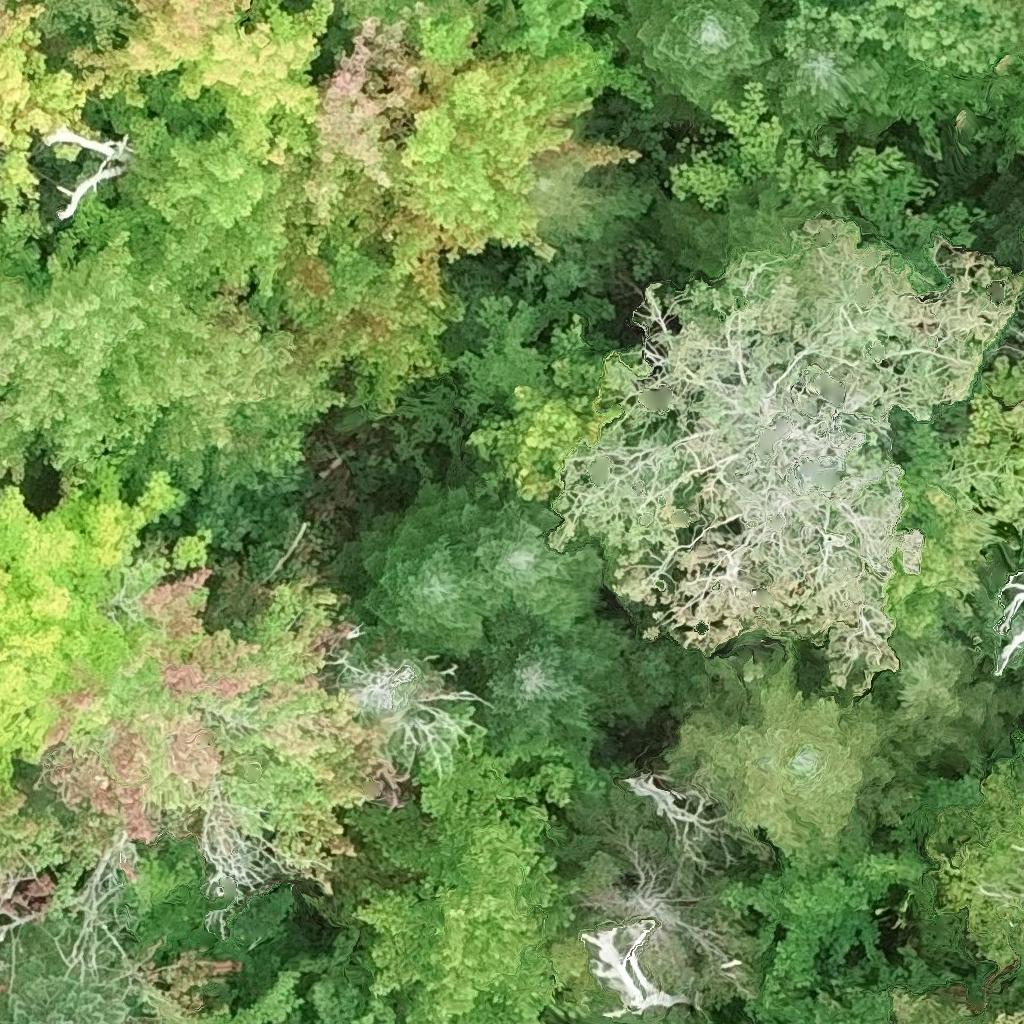crown: (549, 220, 1023, 680), (41, 561, 399, 897), (302, 0, 658, 307), (662, 639, 998, 856), (351, 718, 583, 1023), (0, 464, 207, 790), (671, 82, 977, 301), (883, 360, 1023, 640), (437, 295, 610, 509), (405, 475, 601, 639), (465, 610, 684, 753), (317, 508, 511, 662), (774, 0, 1018, 78), (616, 0, 788, 108), (122, 938, 301, 1023), (0, 787, 110, 925), (0, 927, 140, 1023), (293, 929, 399, 1023), (893, 990, 1023, 1023)
